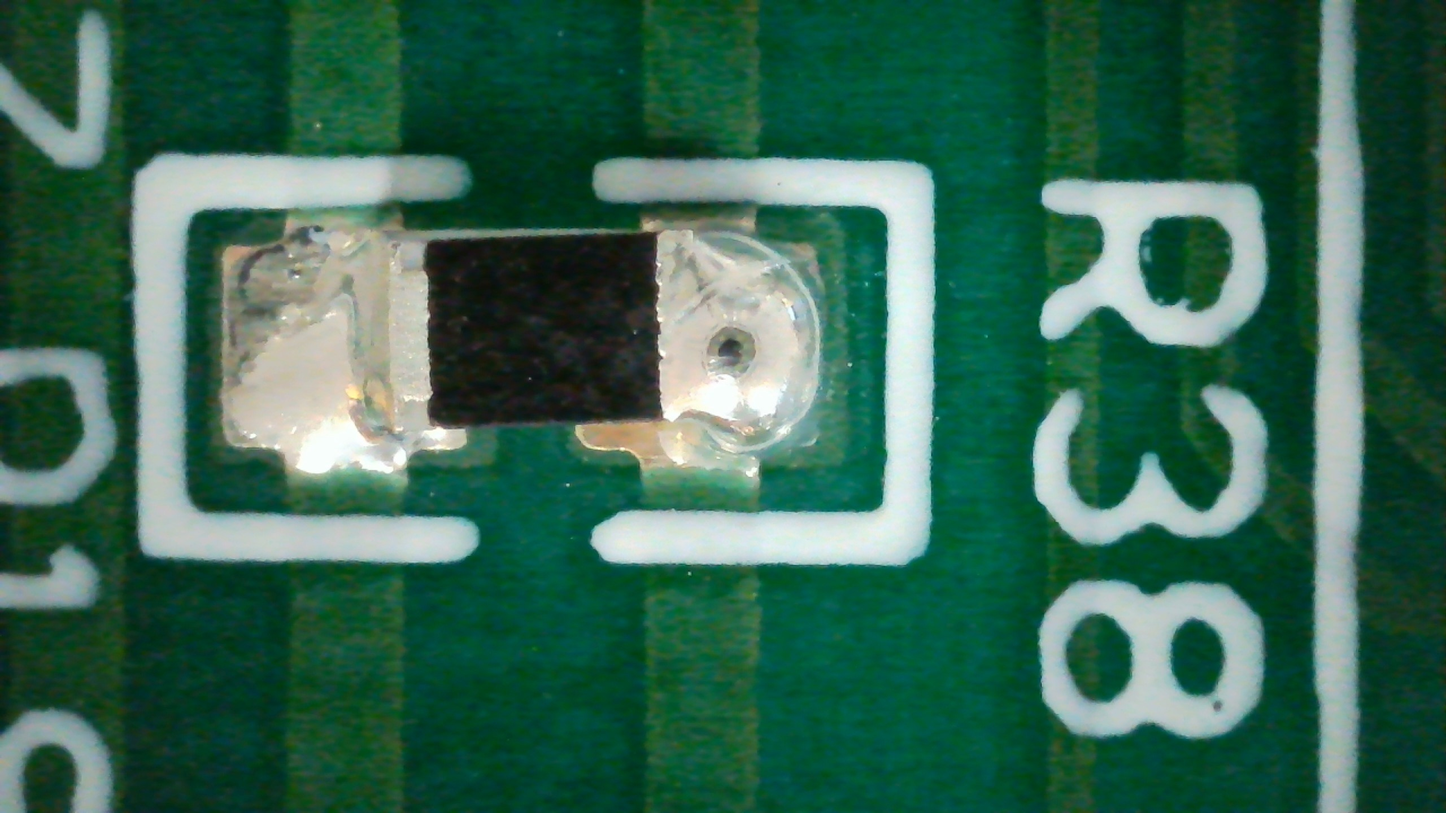OK: (223, 214, 823, 473)
